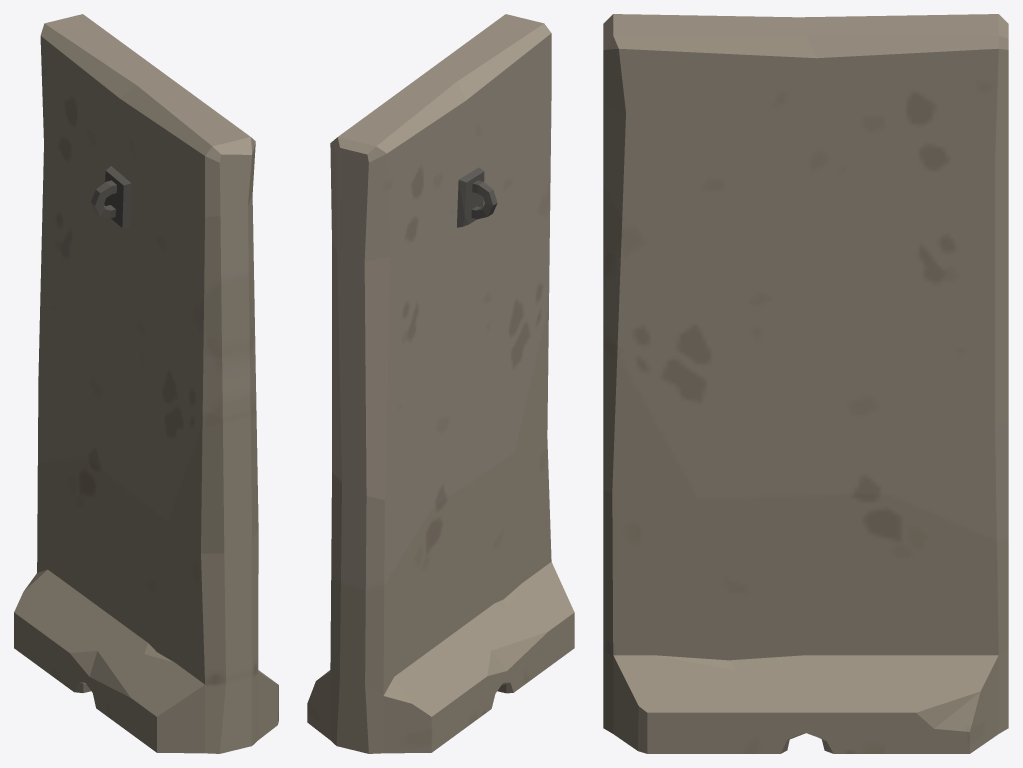
The model's file is SM_Prop_Barrier_Tall_01.glb.
3 views of the same model, side by side, from view 1: azimuth 30°, elevation 25°; view 2: azimuth 150°, elevation 25°; view 3: azimuth 270°, elevation 25° (orthographic). The views are drawn at different scales.
Visible parts, largest first — view 1: SM_Prop_Barrier_Tall_01; view 2: SM_Prop_Barrier_Tall_01; view 3: SM_Prop_Barrier_Tall_01.
Part boxes in pixels (x1,y1,x2,y2): SM_Prop_Barrier_Tall_01: (14,14,278,753); SM_Prop_Barrier_Tall_01: (307,14,574,753); SM_Prop_Barrier_Tall_01: (603,14,1008,753).
Size of the model in its own units: 0.7003 by 3.26 by 1.72.
1 material, 1 textured.
